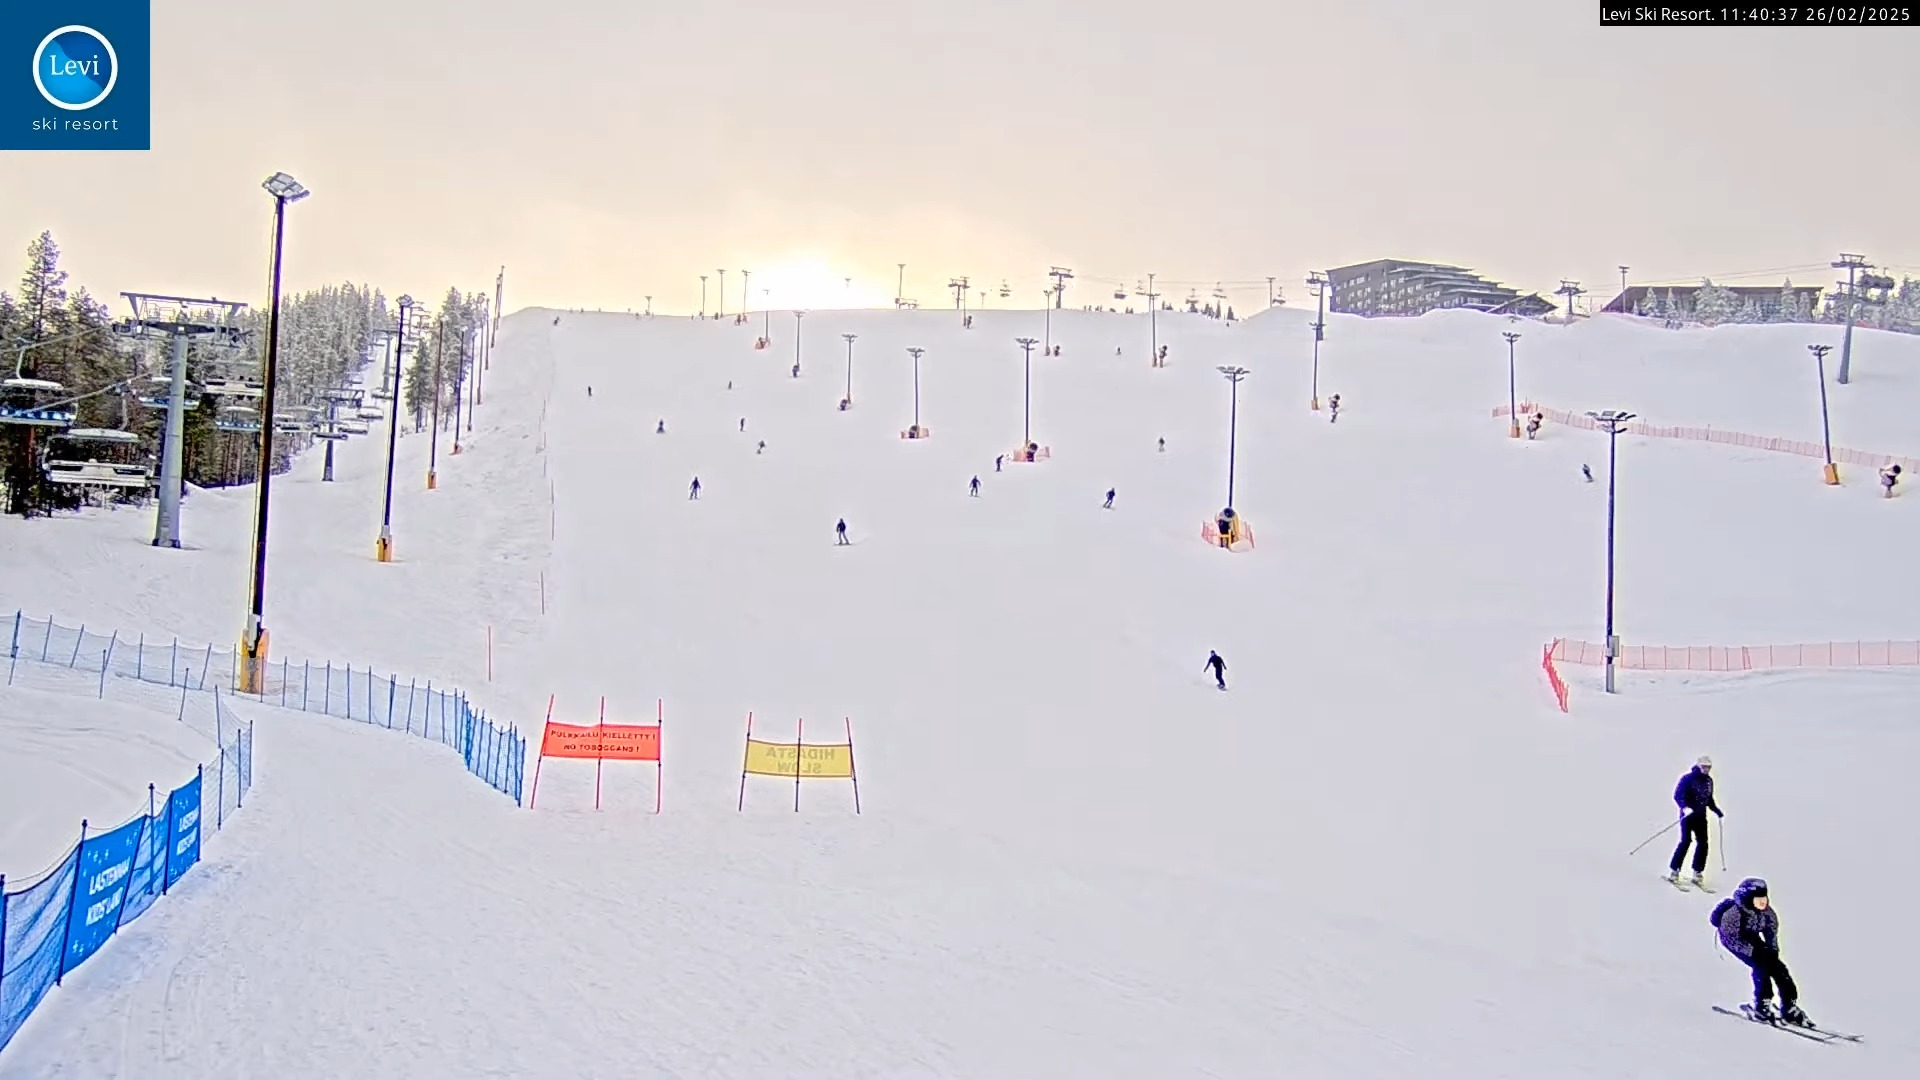skier: (1702, 874, 1862, 1048), (1654, 757, 1722, 895)
